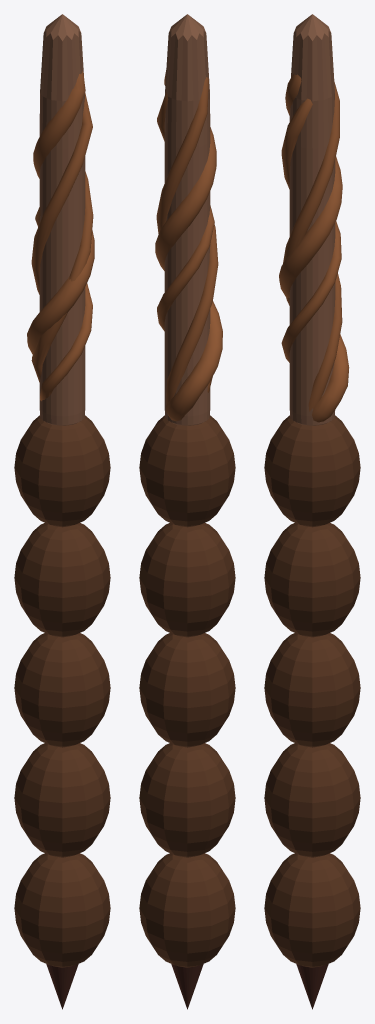
Rendered from Wand 272.glb.
3 renders of one model, left to right at view 1: azimuth 30°, elevation 25°; view 2: azimuth 210°, elevation 25°; view 3: azimuth 270°, elevation 25°, orthographic.
Parts seen in each view (by area): view 1: GeneratedWand; view 2: GeneratedWand; view 3: GeneratedWand.
Boxes of the visible parts, left/top/right/bottom form: GeneratedWand: left=14, top=14, right=110, bottom=1009; GeneratedWand: left=139, top=14, right=235, bottom=1009; GeneratedWand: left=264, top=14, right=360, bottom=1009.
Bounding box in the file's own units: 0.0447 × 0.5128 × 0.0449.
